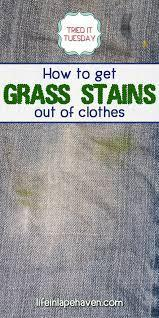earth: (98, 132, 139, 162), (18, 188, 42, 208)
